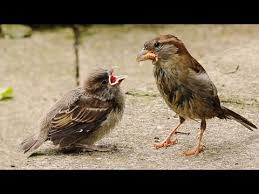hsparrow: (136, 32, 255, 159), (20, 65, 131, 158)
